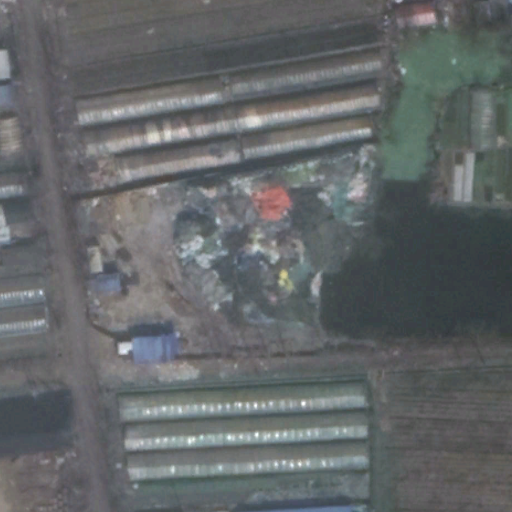msw: (165, 149, 371, 331)
